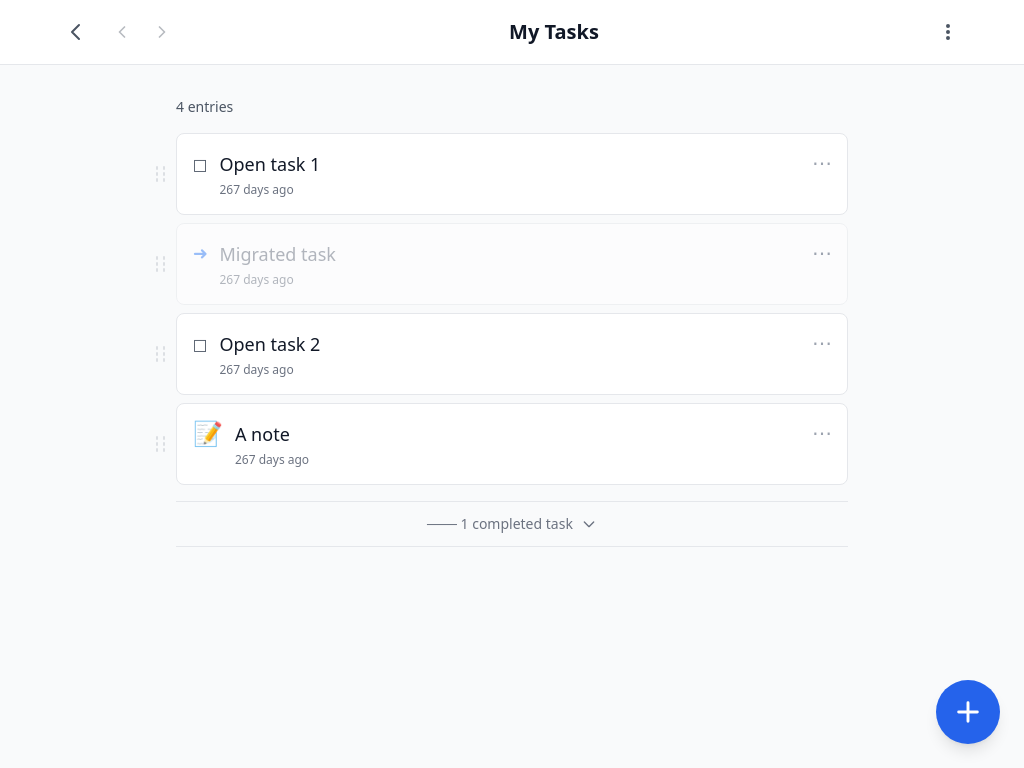
it: CollectionDetailView - Collapse Completed Tasks Feature › should only select incomplete tasks when "Active" filter is clicked (Bug 2 regression)
The image size is (1024, 768).
Expected: the text "Open task 1" is shown, [220,152,320,176]
Note: Enter selection mode - first open the menu
Click the button named "collection menu" at (948, 32), box [928,12,968,52]
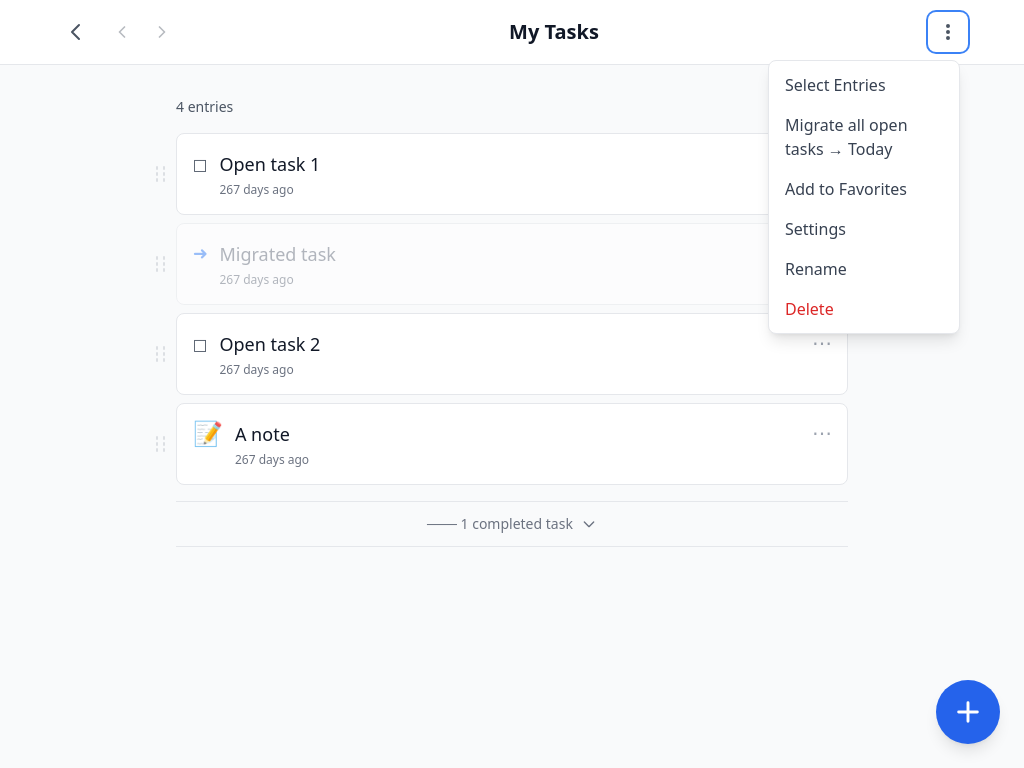
Note: Click "Select Entries" option
Click the button "Select Entries" at (864, 85), box [769,65,959,105]
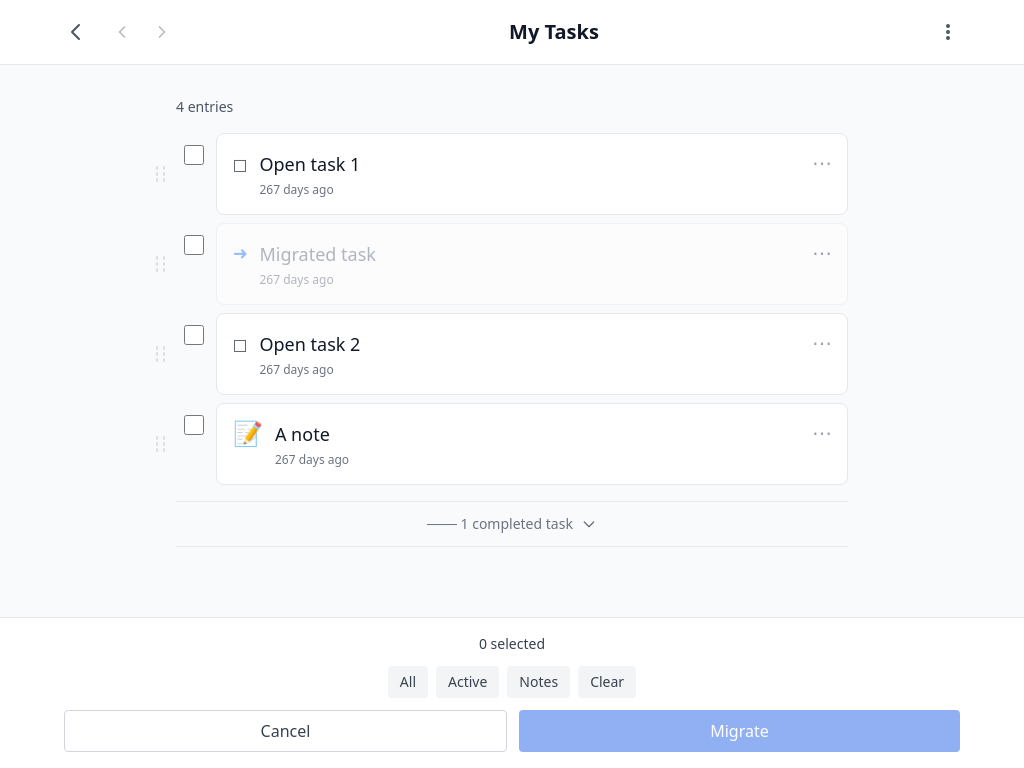
Expected: the text "0 selected" is shown, [479,634,545,653]
Note: Click "Active" filter button
Click the button "Active" at (468, 682), box [436,666,499,698]
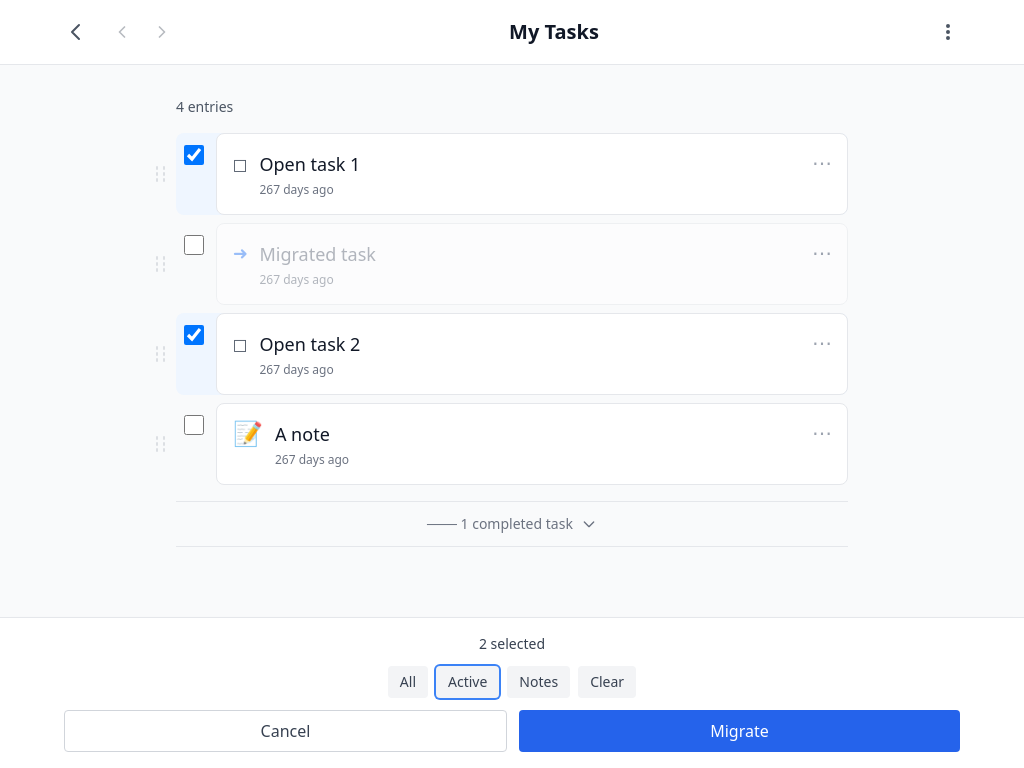
Expected: the text "2 selected" is shown, [479,634,545,653]
